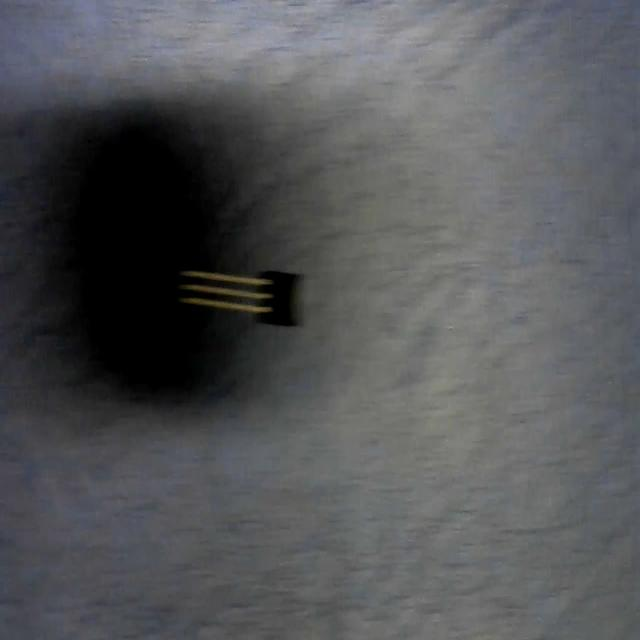BJT: (184, 260, 308, 332)
